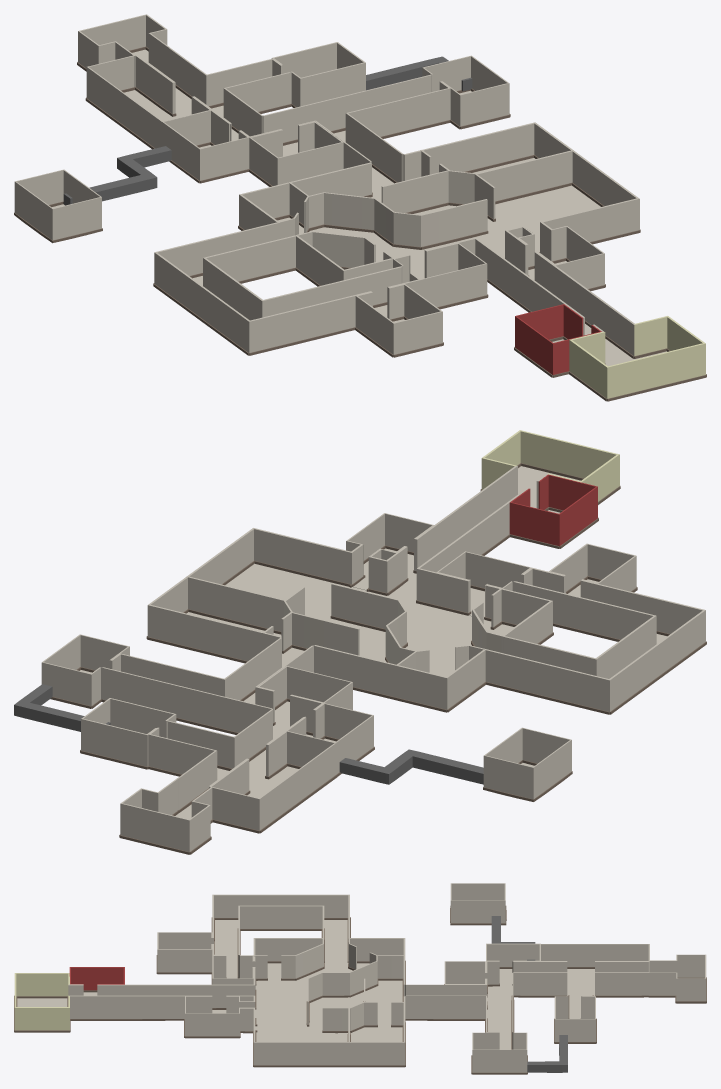
File: level_organised_04.fbx
The picture shows the model from 3 angles, top to bottom: view 1: azimuth 30°, elevation 25°; view 2: azimuth 150°, elevation 25°; view 3: azimuth 270°, elevation 25°; orthographic projection. The views are drawn at different scales.
Parts seen in each view (by area): view 1: polySurface142, polySurface120, polySurface130, polySurface247, polySurface128, polySurface95, polySurface111, polySurface251, polySurface238, polySurface119, polySurface135, polySurface285 (+57 smaller); view 2: polySurface142, polySurface247, polySurface126, polySurface119, polySurface120, polySurface128, polySurface516, polySurface135, polySurface238, polySurface111, polySurface95, polySurface285 (+52 smaller); view 3: polySurface142, polySurface122, polySurface111, polySurface128, polySurface143, polySurface243, polySurface285, polySurface514, polySurface99, polySurface192, polySurface202, polySurface168 (+41 smaller).
Part boxes in pixels (x1,y1,x2,y2): polySurface142: (193, 158, 666, 366); polySurface120: (403, 122, 534, 180); polySurface130: (249, 291, 371, 355); polySurface247: (263, 74, 431, 145); polySurface128: (153, 252, 249, 355); polySurface95: (607, 343, 706, 401); polySurface111: (534, 252, 634, 358); polySurface251: (346, 88, 450, 138); polySurface238: (474, 150, 573, 204); polySurface119: (238, 162, 372, 225); polySurface135: (262, 266, 402, 317); polySurface285: (85, 67, 162, 149); polySurface142: (187, 466, 666, 676); polySurface247: (101, 667, 272, 734); polySurface126: (485, 649, 609, 714); polySurface119: (314, 645, 447, 712); polySurface120: (147, 604, 281, 667); polySurface128: (609, 610, 706, 714); polySurface516: (253, 528, 351, 586); polySurface135: (512, 581, 655, 641); polySurface238: (186, 576, 286, 634); polySurface111: (414, 466, 517, 573); polySurface95: (520, 430, 618, 480); polySurface285: (259, 743, 337, 833); polySurface142: (17, 920, 402, 1041); polySurface122: (253, 1042, 405, 1067); polySurface111: (69, 995, 211, 1020); polySurface128: (213, 894, 349, 919); polySurface143: (239, 905, 323, 930); polySurface243: (405, 995, 486, 1020); polySurface285: (541, 944, 648, 968); polySurface514: (124, 984, 255, 1009); polySurface99: (14, 1007, 69, 1032); polySurface192: (472, 1049, 527, 1074); polySurface202: (157, 949, 212, 974); polySurface168: (185, 1013, 239, 1038).
Size of the model in its own units: 12.87 by 0.8857 by 22.51.
